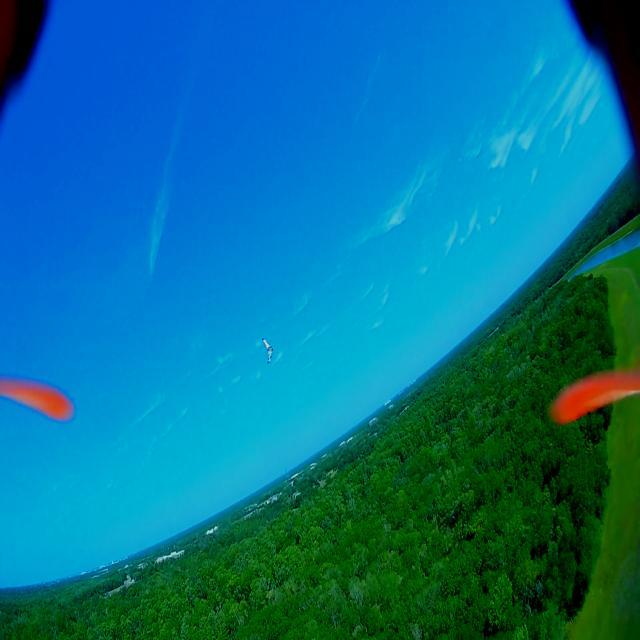iha: (247, 334, 276, 367)
